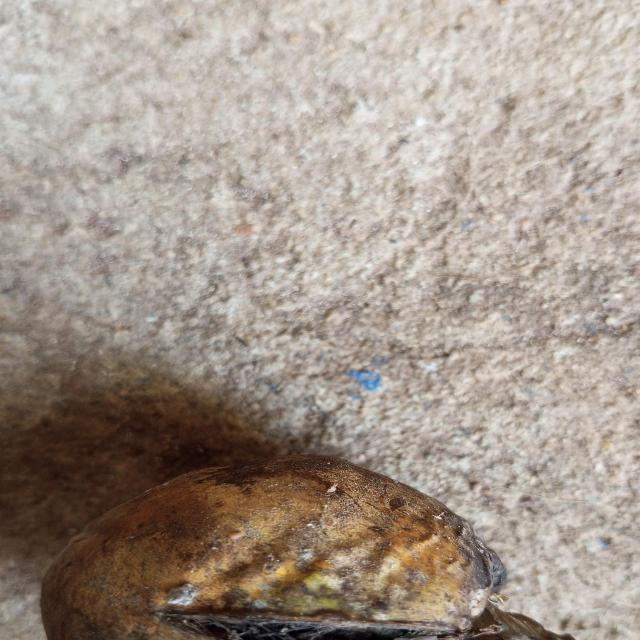damaged: (42, 455, 573, 640)
